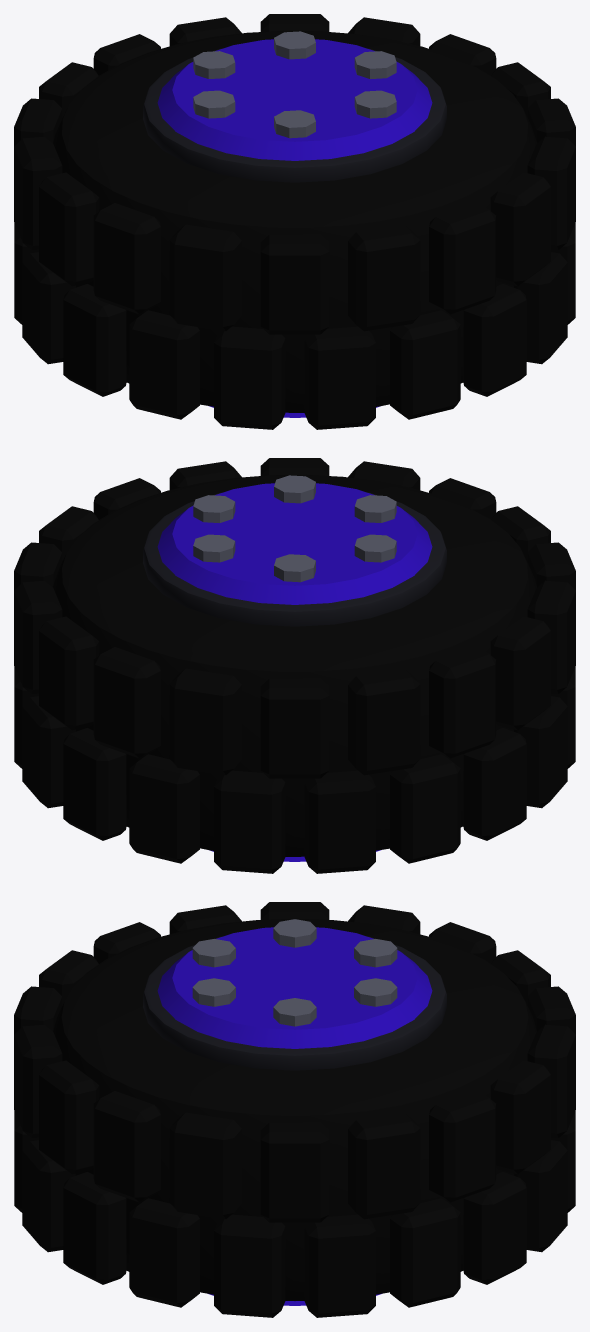
File: wheel.obj
3 views of the same model, one above another, from view 1: azimuth 30°, elevation 25°; view 2: azimuth 150°, elevation 25°; view 3: azimuth 270°, elevation 25° (orthographic).
Visible parts, largest first — view 1: left_wheel; view 2: left_wheel; view 3: left_wheel.
Part boxes in pixels (box(x1,y1,x2,y2)): left_wheel: box(14, 14, 575, 429); left_wheel: box(14, 458, 575, 873); left_wheel: box(14, 902, 575, 1317).
Bounding box in the file's own units: 0.0985 × 0.055 × 0.0985.
